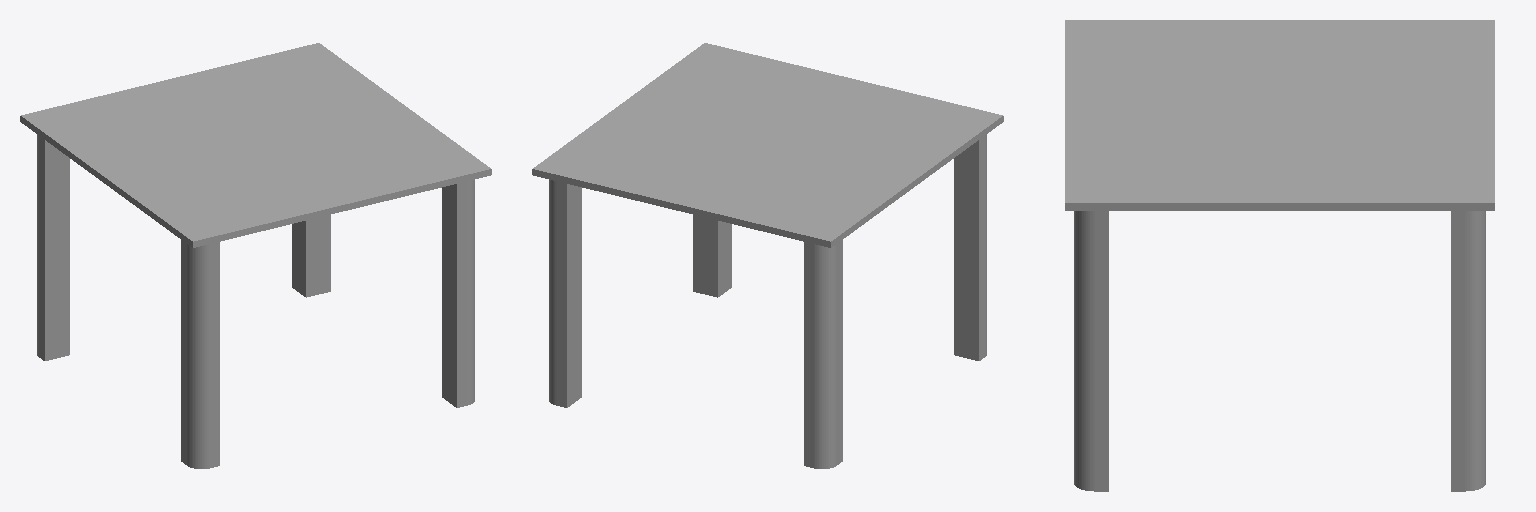
URDF robot description (steel_table):
<?xml version="1.0"?>
<robot name="steel_table">
  <link name="base_link">
  <contact>
      <lateral_friction value="1"/>
  </contact>
    <inertial>
      <origin xyz="0 0 0" rpy="0 0 0" />
      <mass value="0" />   <!-- was 415 -->
      <inertia ixx="0" ixy="0" ixz="0" iyy="0" iyz="0" izz="0" />
    </inertial>
    <visual>
      <origin xyz="0 0 0" rpy="0 0 0" />
      <geometry>
        <mesh filename="panda_table.obj"/>
      </geometry>
      <material name="grey">
        <color rgba="0.7 0.7 0.7 1.0" />
      </material>
    </visual>
    <collision>
      <origin xyz="0 0 0" rpy="0 0 0" />
      <geometry>
        <mesh filename="panda_table.obj"/>
      </geometry>
    </collision>
   </link>
</robot>

--- What the picture shows (computed from the rendered views, not written in the file) ---
The picture shows the robot from 3 angles, left to right: view 1: azimuth 30°, elevation 25°; view 2: azimuth 150°, elevation 25°; view 3: azimuth 270°, elevation 25°; orthographic projection.
Robot: steel_table — 1 links, 0 joints (none); root link base_link; default pose: all joints at 0.
Links seen in each view (by area): view 1: base_link; view 2: base_link; view 3: base_link.
Link boxes in pixels (x1,y1,x2,y2): base_link: (20, 43, 491, 468); base_link: (532, 43, 1003, 468); base_link: (1065, 20, 1494, 491).
Bounding box of the posed robot: 1.22 × 1.22 × 0.9144 m (x, y, z).
1 mesh visuals loaded from 1 distinct referenced files (1 OBJ).